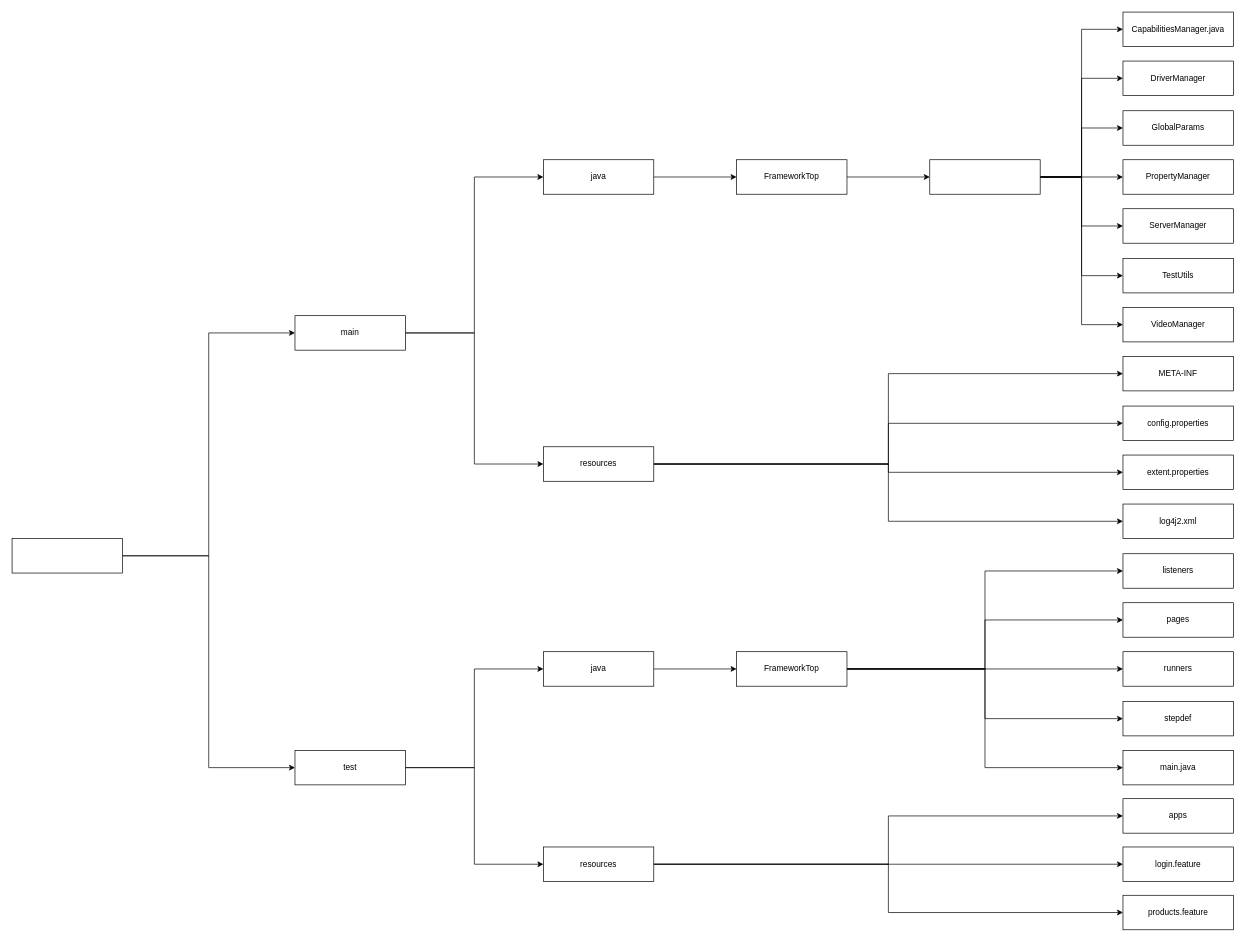
This 1245x942 diagram has some shape labels left out. The shapes that lost their labels are listed below. From the top down, each one's centre as x and y in pixels, then its label:
At pixel 984 176: "utils".
At pixel 66 555: "src".
